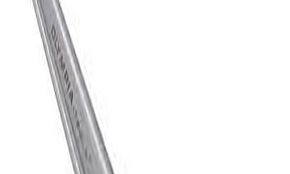Wrench: (24, 1, 119, 174)
